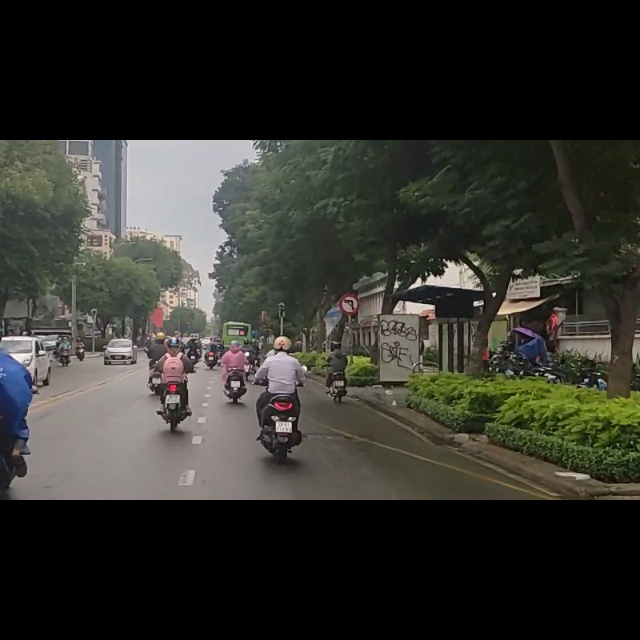bien_cam: (340, 274, 361, 309)
